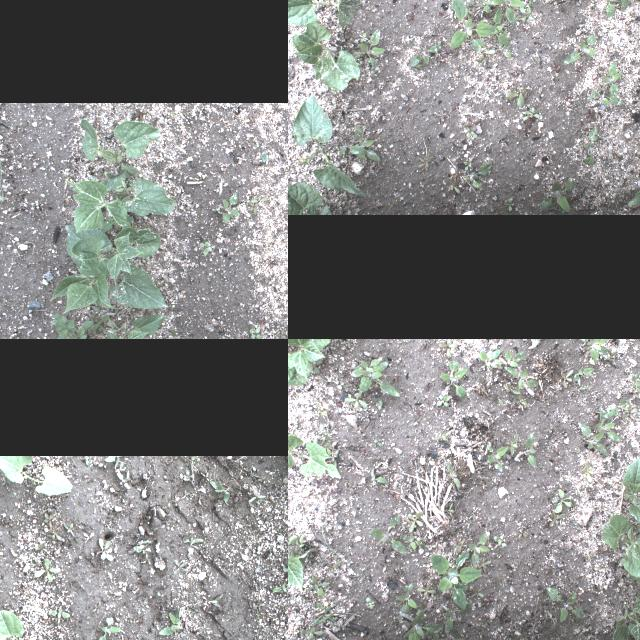crop: (50, 224, 168, 314), (293, 90, 365, 196), (290, 20, 362, 90), (80, 118, 160, 178), (0, 455, 72, 495), (288, 431, 341, 478), (602, 514, 640, 577), (288, 0, 365, 30), (288, 528, 318, 594), (288, 339, 330, 384), (0, 607, 54, 640), (91, 316, 167, 339), (605, 593, 640, 640), (288, 181, 333, 214), (621, 455, 640, 532)
weed: (64, 173, 178, 230), (431, 552, 481, 610), (448, 0, 500, 54), (351, 355, 402, 395), (586, 59, 620, 110), (369, 514, 409, 556), (338, 124, 382, 160), (396, 609, 444, 640), (560, 29, 600, 66), (546, 586, 586, 620), (539, 180, 575, 214), (438, 359, 468, 399), (357, 28, 385, 70), (50, 313, 95, 339), (576, 420, 608, 456), (481, 0, 526, 25), (572, 339, 611, 365), (491, 7, 511, 57), (444, 604, 474, 634), (597, 407, 623, 441), (409, 43, 445, 67), (466, 532, 490, 568), (504, 365, 538, 389), (462, 162, 491, 190), (322, 520, 344, 556), (581, 127, 599, 169), (491, 348, 529, 367), (314, 603, 346, 625), (158, 608, 185, 634), (396, 584, 418, 614), (486, 441, 508, 471), (34, 557, 61, 581), (222, 192, 242, 222), (94, 617, 120, 640), (604, 396, 630, 418), (95, 536, 114, 562), (603, 0, 625, 22), (211, 480, 231, 504), (306, 576, 330, 596), (554, 488, 574, 512), (506, 86, 526, 108), (478, 348, 502, 366), (0, 102, 4, 202), (402, 532, 424, 550), (573, 367, 595, 385), (438, 339, 458, 358), (180, 534, 203, 550), (447, 462, 461, 488), (344, 392, 366, 408), (408, 510, 424, 532), (526, 433, 536, 467), (48, 605, 72, 619), (300, 626, 324, 640), (518, 4, 538, 20), (248, 486, 268, 502), (580, 460, 594, 482), (92, 314, 108, 332), (171, 558, 187, 576), (308, 357, 324, 375), (370, 466, 388, 482), (202, 593, 222, 607), (114, 460, 128, 480), (543, 614, 557, 634), (548, 513, 568, 527), (560, 368, 574, 388), (416, 156, 434, 170), (104, 456, 122, 470), (416, 584, 436, 596), (432, 428, 452, 440), (507, 432, 518, 453), (48, 525, 62, 541), (477, 557, 491, 573), (455, 538, 469, 554), (132, 544, 154, 554), (325, 560, 343, 572), (631, 370, 640, 394), (404, 514, 418, 528), (531, 339, 559, 346), (200, 239, 212, 255), (249, 325, 262, 339), (248, 194, 266, 204), (346, 402, 362, 413), (271, 582, 288, 592), (316, 602, 330, 614), (494, 535, 508, 547), (470, 586, 484, 598), (622, 407, 636, 419), (524, 109, 540, 119), (331, 449, 339, 469), (316, 403, 326, 419), (436, 394, 449, 406), (327, 502, 339, 514), (453, 628, 465, 640), (96, 167, 110, 177), (506, 198, 516, 212), (463, 157, 473, 171), (44, 513, 54, 527), (63, 522, 73, 536), (518, 391, 528, 405), (607, 347, 617, 361), (338, 339, 353, 348), (502, 446, 512, 459), (34, 544, 50, 552), (375, 396, 383, 412), (162, 330, 176, 339), (448, 184, 462, 193), (364, 596, 374, 608), (425, 631, 438, 640), (467, 128, 477, 138), (314, 477, 324, 487), (346, 481, 356, 491), (413, 416, 423, 426), (281, 559, 288, 573), (250, 202, 258, 214), (322, 426, 328, 442), (580, 484, 588, 496), (508, 385, 520, 393), (354, 362, 364, 371), (373, 438, 382, 447), (258, 152, 268, 160), (506, 635, 522, 640), (518, 528, 526, 538), (637, 576, 640, 599), (326, 440, 330, 456), (578, 632, 584, 638), (334, 488, 342, 492), (631, 573, 635, 581), (580, 386, 586, 388)
